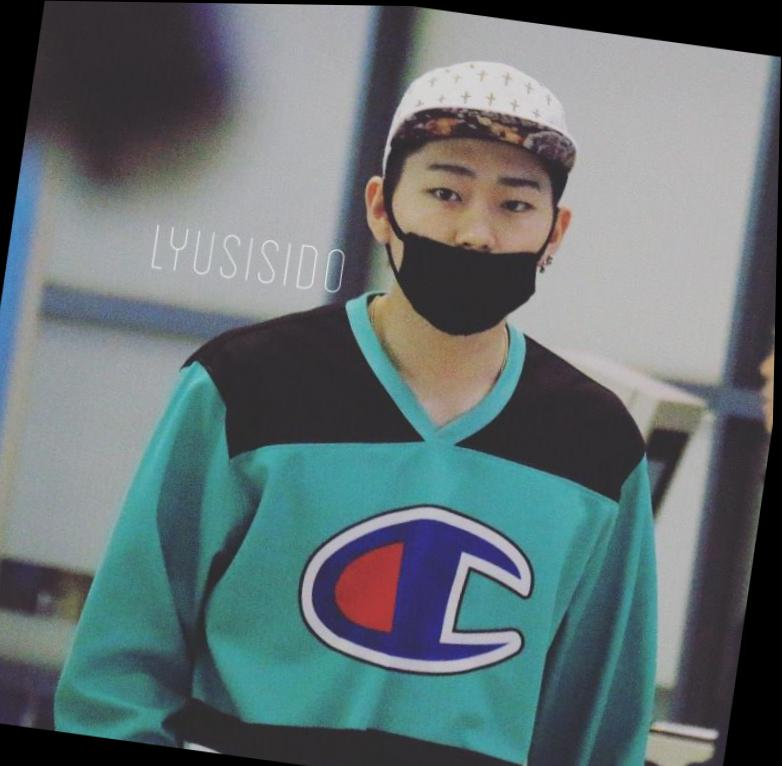WRONG: (370, 140, 572, 342)
